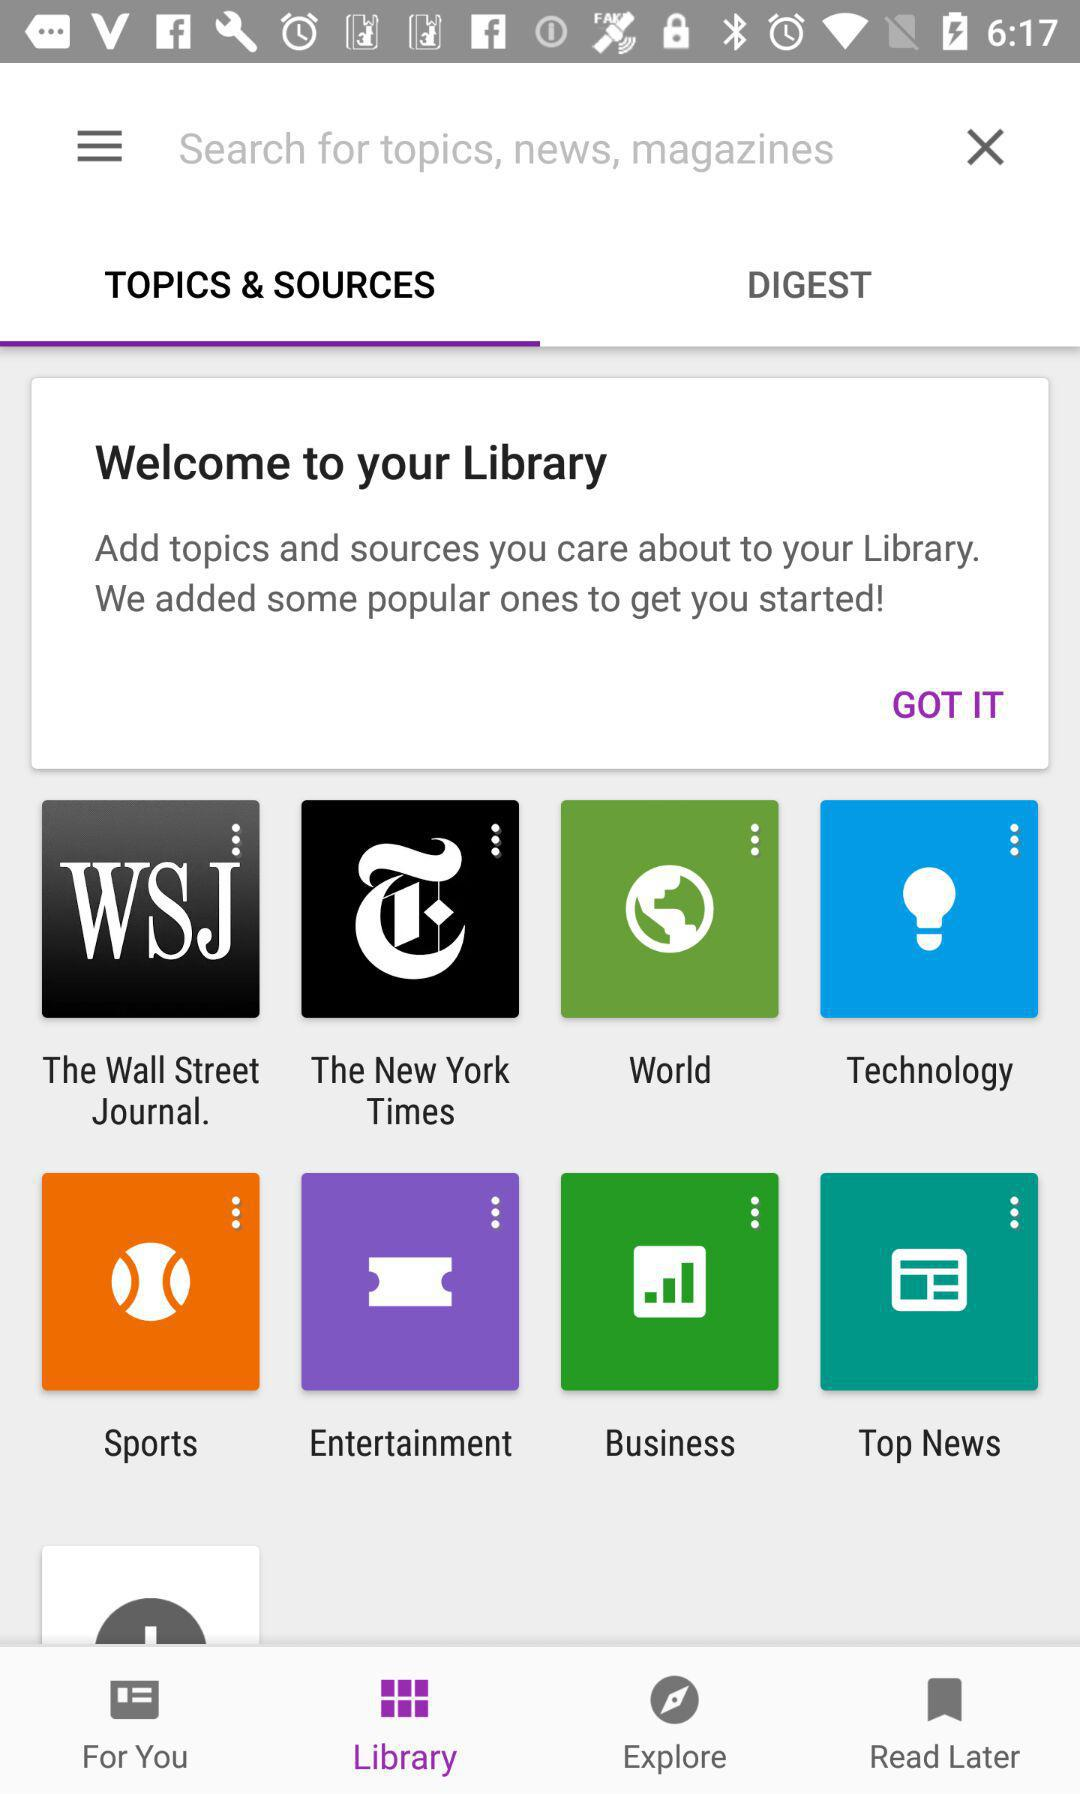Bottom_Navigation: (1, 1647, 1080, 1794)
Card: (29, 375, 1051, 771)
Icon: (650, 1675, 700, 1725), (110, 1679, 161, 1720), (380, 1677, 430, 1718), (928, 1677, 963, 1724), (78, 129, 126, 164), (967, 129, 1006, 167), (489, 823, 503, 860), (231, 1196, 243, 1231), (489, 1196, 502, 1230), (232, 823, 243, 860), (749, 1196, 761, 1231), (1010, 823, 1021, 859), (749, 823, 761, 859), (1010, 1196, 1021, 1230)
Image: (820, 1173, 1039, 1392), (301, 1173, 520, 1392), (42, 1173, 261, 1392), (820, 800, 1039, 1019), (561, 800, 780, 1019), (301, 800, 520, 1019), (42, 800, 261, 1019), (561, 1173, 779, 1392), (44, 1545, 260, 1647)
Text: (95, 532, 980, 621), (179, 129, 834, 176), (95, 443, 609, 492), (44, 1055, 263, 1126), (310, 1055, 511, 1126), (105, 270, 436, 300), (847, 1055, 1015, 1093), (311, 1428, 514, 1458), (858, 1428, 1001, 1463), (870, 1743, 1021, 1768), (606, 1429, 735, 1458), (354, 1741, 459, 1777), (748, 270, 872, 300), (624, 1743, 728, 1776), (893, 689, 1004, 720), (105, 1428, 199, 1463), (85, 1743, 190, 1768), (630, 1055, 712, 1085)
UpperTaskBar: (1, 1, 1080, 64)
